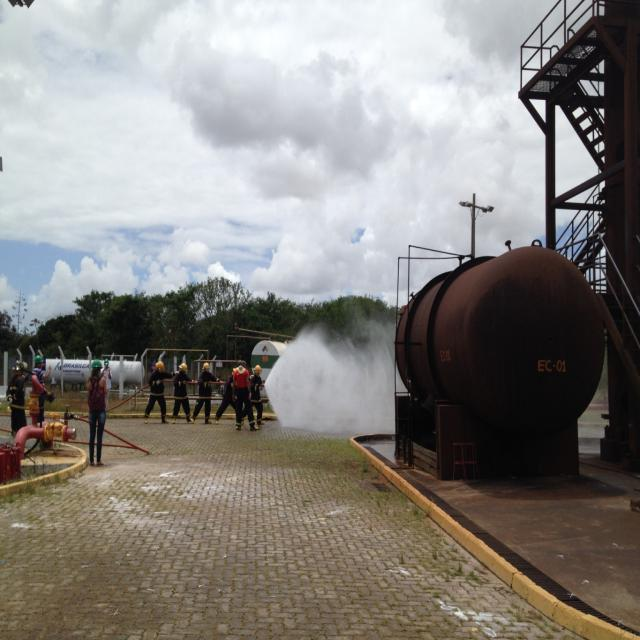no_fire: (51, 59, 590, 548)
